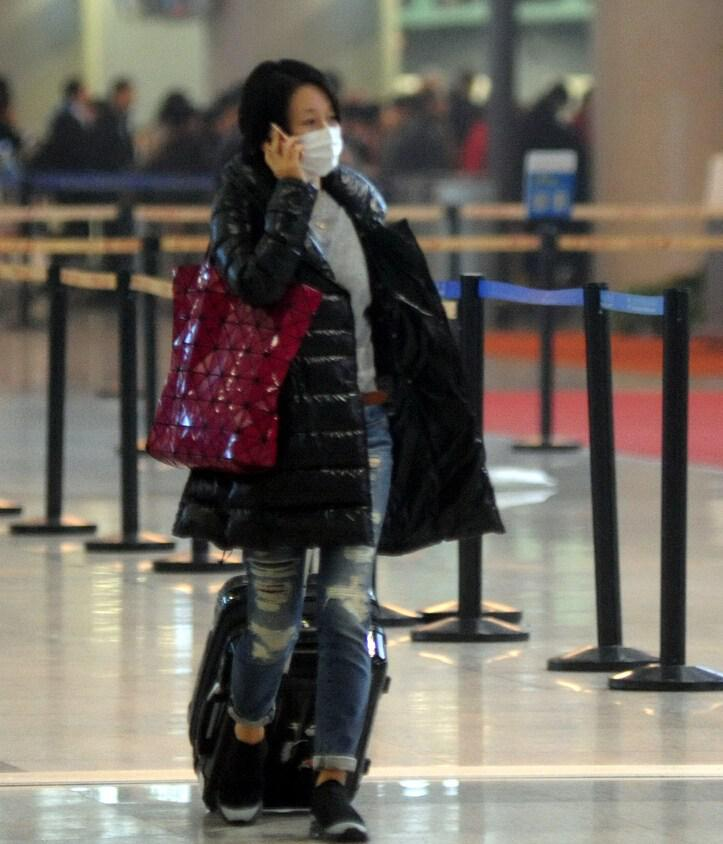OK: (279, 108, 348, 177)
